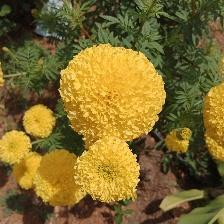marigold: (60, 44, 169, 144), (74, 139, 144, 205), (34, 149, 90, 205), (202, 80, 224, 145), (23, 104, 58, 139), (16, 154, 45, 191), (166, 123, 197, 157), (1, 129, 32, 162), (204, 133, 224, 162)
